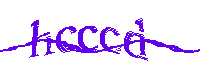c: (56, 23, 77, 55), (100, 24, 121, 56), (78, 21, 99, 53)
d: (124, 19, 149, 62)
h: (29, 19, 53, 57)
